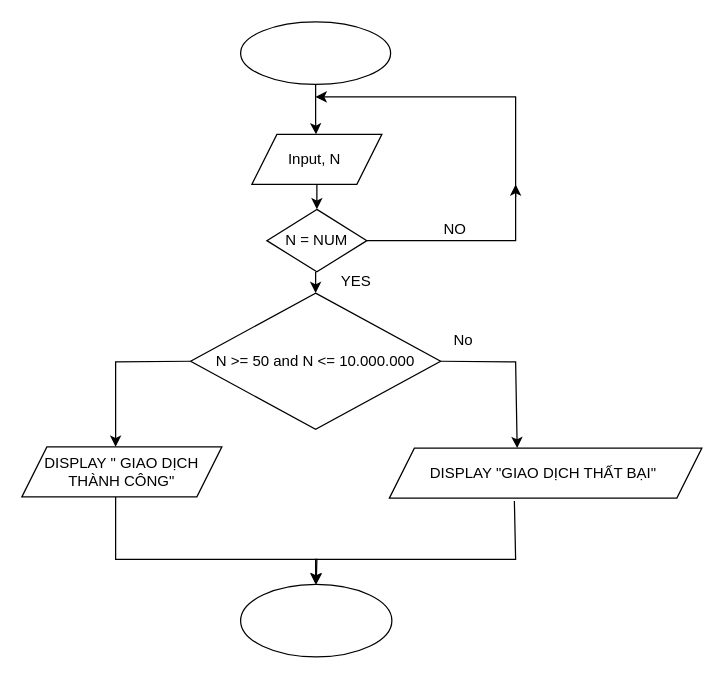
This 724x679 diagram has some shape labels left out. The shapes that lost their labels are listed below. From the top down, each one's box as (x1, y1, x2, y2) in pixels, then its label:
(239, 21, 391, 84): Begin
(239, 583, 392, 657): End
